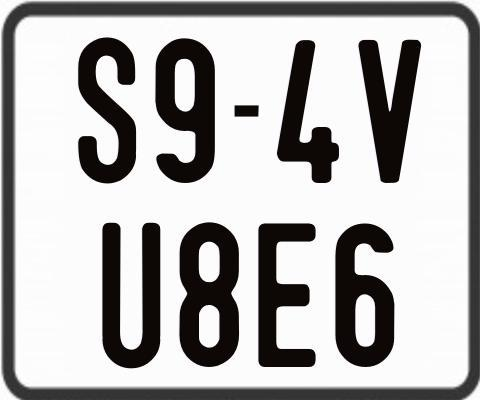4: (276, 39, 339, 185)
6: (335, 223, 394, 370)
8: (179, 222, 240, 369)
9: (154, 37, 217, 188)
E: (258, 220, 321, 369)
S: (75, 34, 138, 180)
U: (102, 223, 162, 373)
V: (357, 37, 421, 182)
